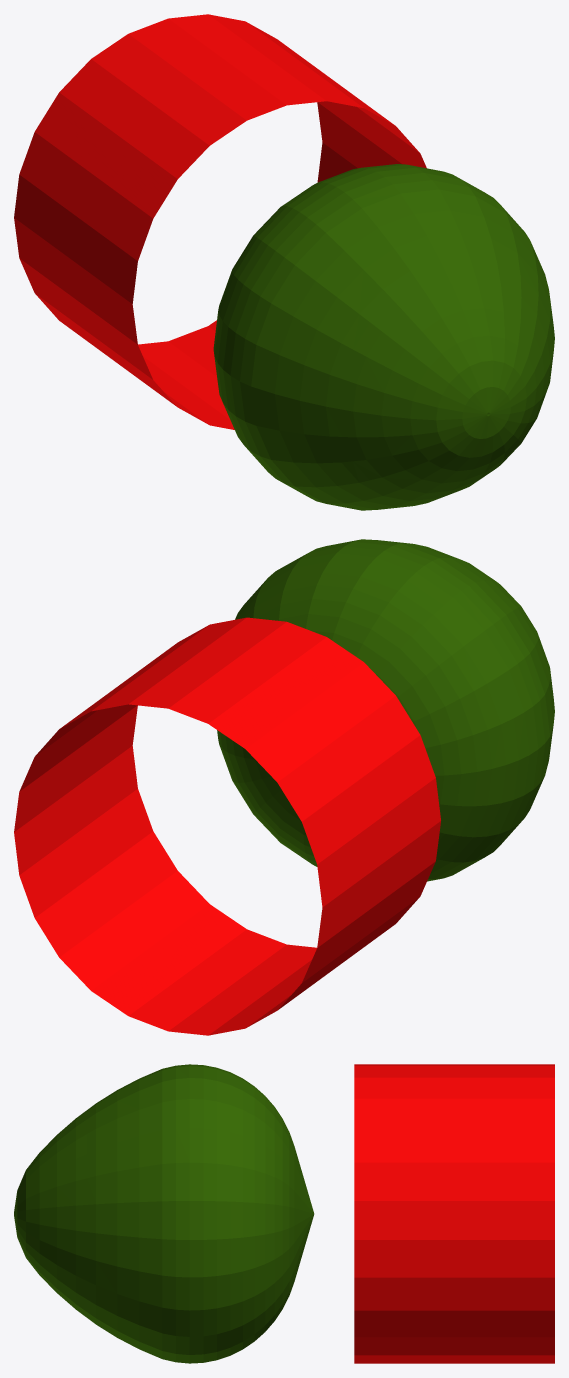
Rendered from HPEo75cm.obj.
3 views of the same model, one above another, from view 1: azimuth 30°, elevation 25°; view 2: azimuth 150°, elevation 25°; view 3: azimuth 270°, elevation 25° (orthographic). The views are drawn at different scales.
Size of the model in its own units: 0.75 by 0.75 by 1.35.
